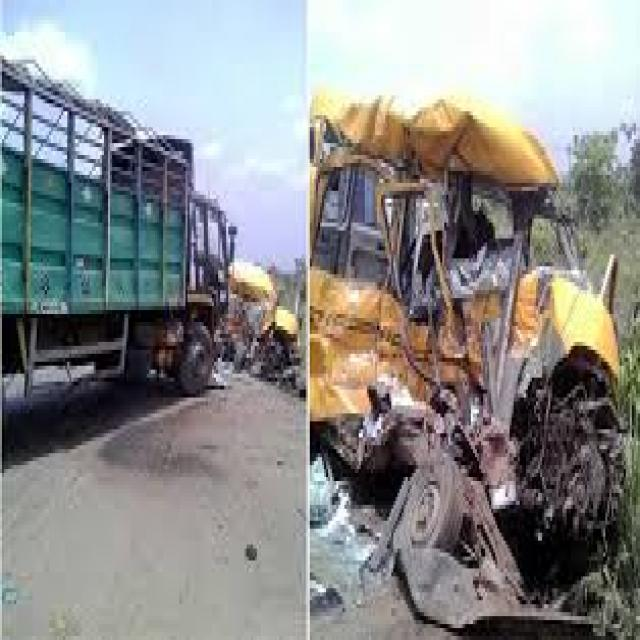accident: (305, 65, 640, 640), (64, 89, 303, 443)
